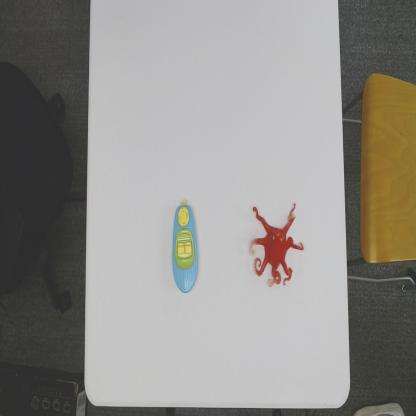Boat: (171, 196, 199, 294)
Octopus: (249, 201, 305, 289)
